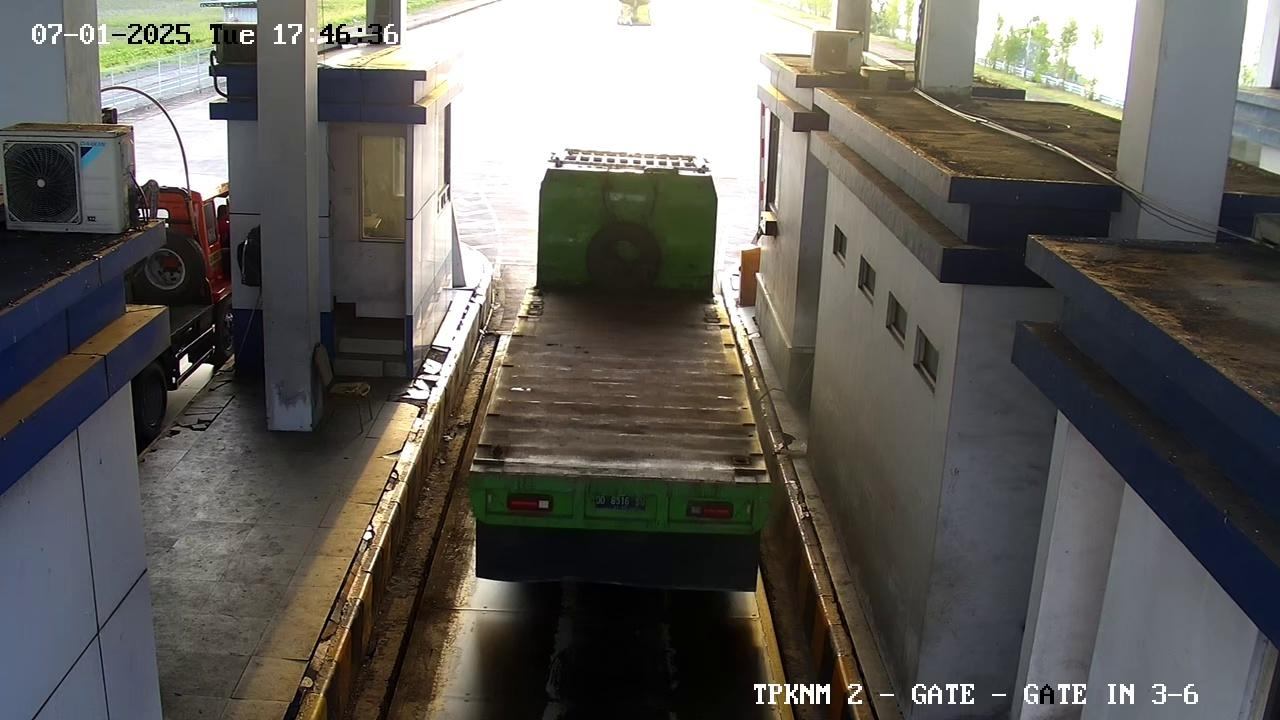plate_number: (586, 486, 657, 515)
